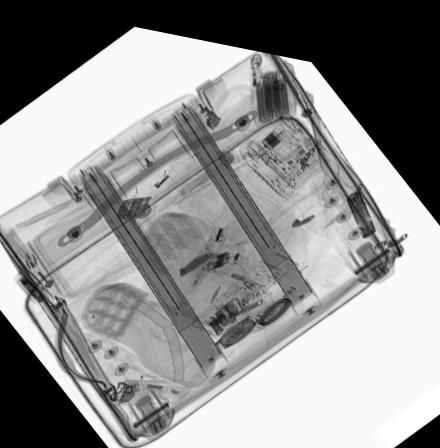Lighter: (103, 373, 195, 401)
